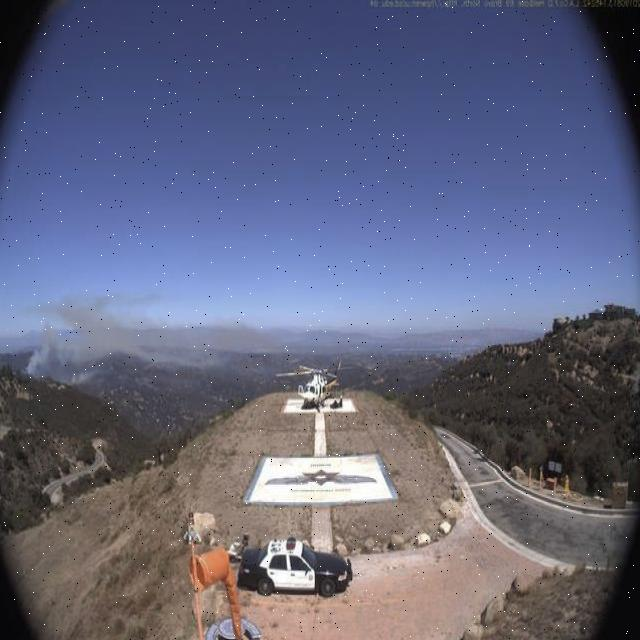smoke: (26, 283, 195, 384)
